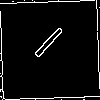I: (25, 25, 66, 68)
